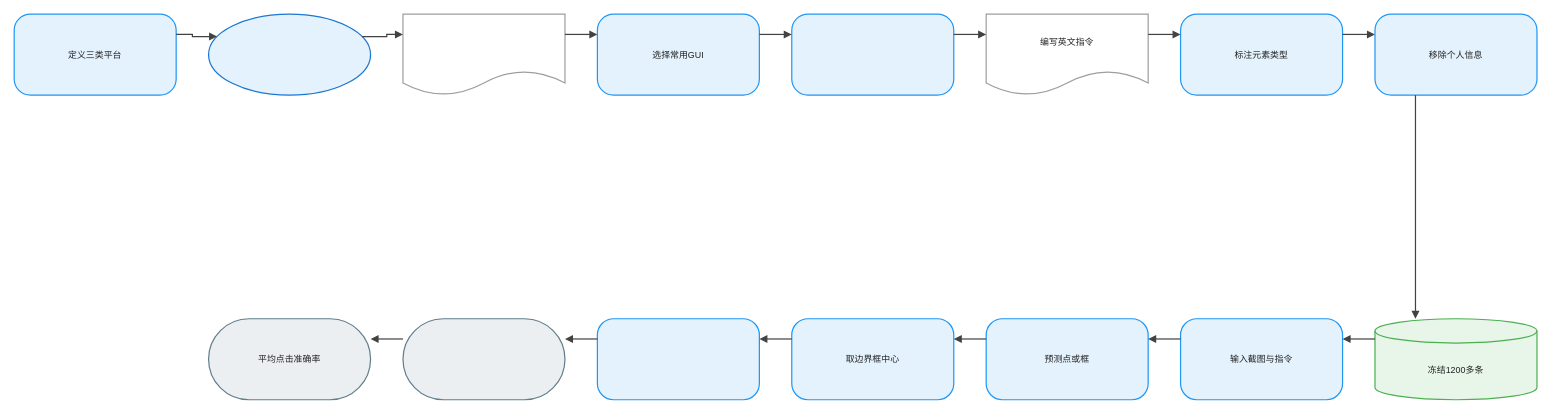
This 1552x415 diagram has some shape labels left out. The shapes that lost their labels are listed below. From the top down, each one's centre as x and y in pixels, then its label:
the point at 289,54: 招募4位标注者
the point at 483,54: 截取日常界面
the point at 872,54: 框选点击目标
the point at 483,359: 报告细分结果
the point at 678,359: 检查是否落框
